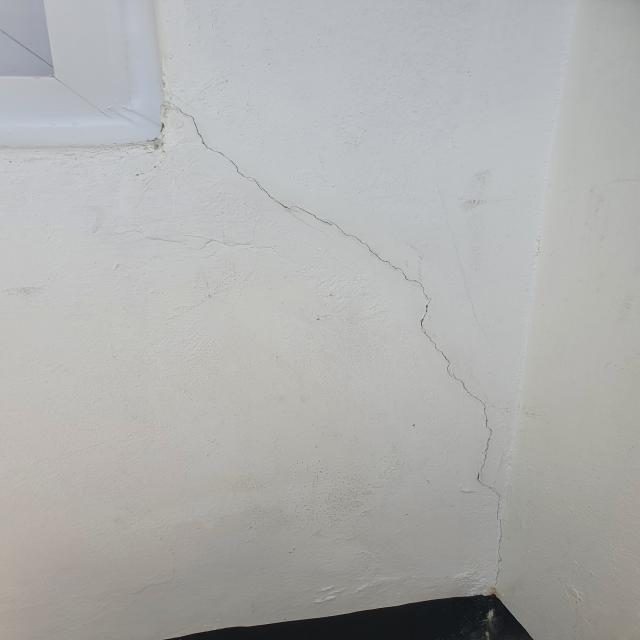Crack: (170, 102, 488, 421)
